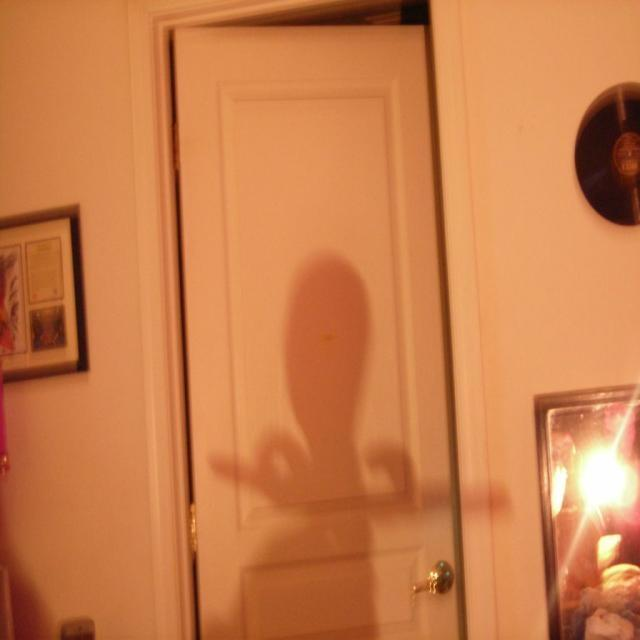door: (127, 0, 501, 640)
